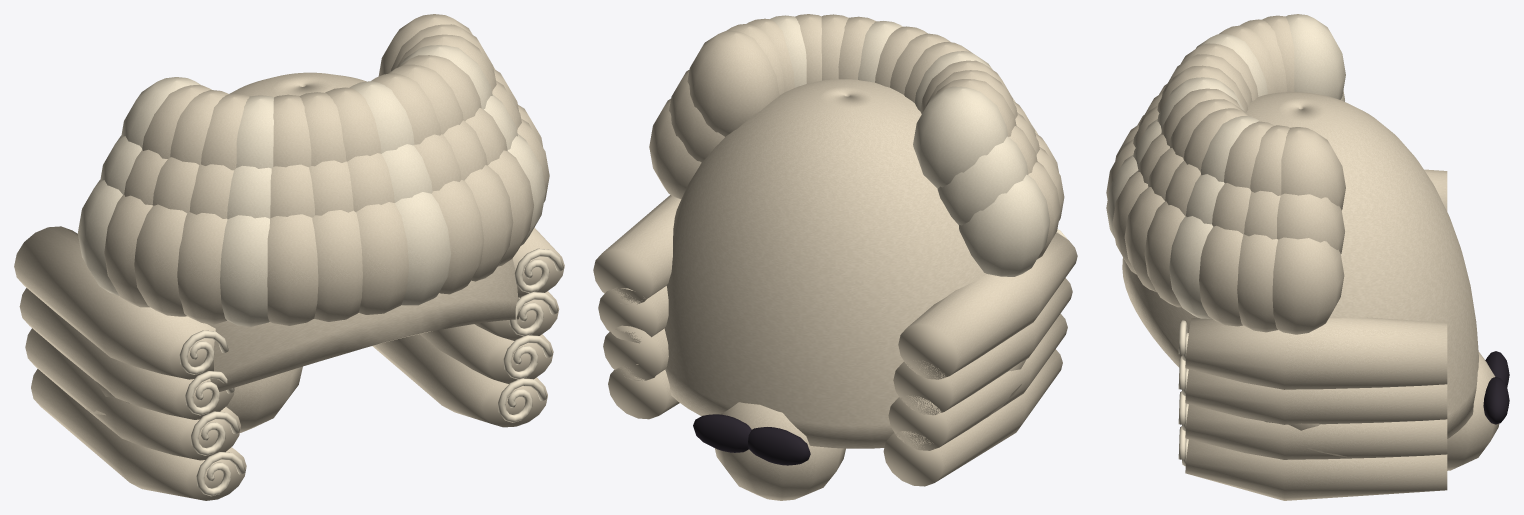
The picture shows the model from 3 angles, left to right: view 1: azimuth 30°, elevation 25°; view 2: azimuth 150°, elevation 25°; view 3: azimuth 270°, elevation 25°; orthographic projection. The views are drawn at different scales.
Visible parts, largest first — view 1: jazz-wig; view 2: jazz-wig; view 3: jazz-wig.
Boxes of the visible parts, <box> form: jazz-wig: <box>14,14,564,500</box>; jazz-wig: <box>593,14,1077,500</box>; jazz-wig: <box>1106,14,1509,500</box>.
Bounding box in the file's own units: 1.51 × 1.42 × 1.33.
Materials: 3 (2 with a texture image).
